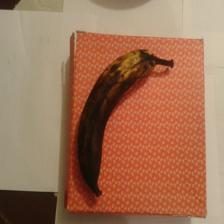Banana Rotten: (59, 37, 137, 206)
